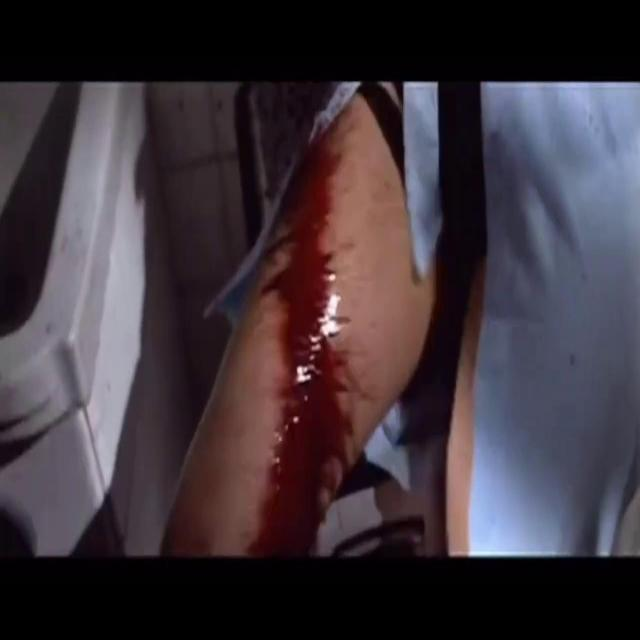flood: (257, 113, 369, 569)
